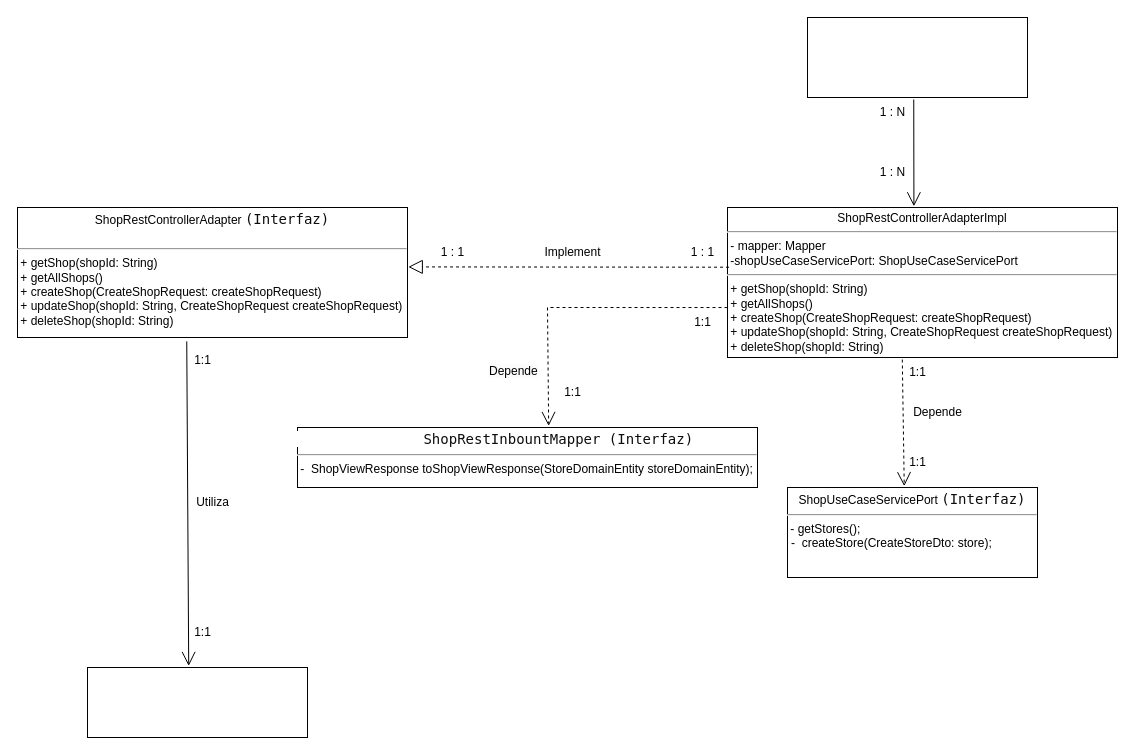
Some shapes in this 1135 by 755 pixel diagram are drawn without their labels. The shapes that lost their labels are listed below. From the top down, each one's centre as x and y in pixels, then its label:
At point 917,57: "ShopViewResponse - id : String - nae: String - url: String".
At point 197,702: "GenericResponse - id: String - data: Object".
